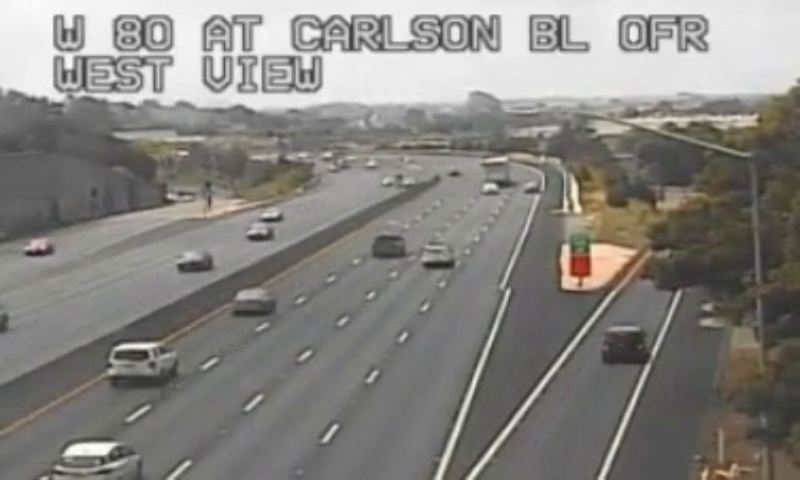car: (51, 442, 142, 480), (107, 343, 177, 380), (602, 326, 646, 360), (232, 289, 275, 314), (371, 233, 405, 259), (419, 243, 453, 265)
